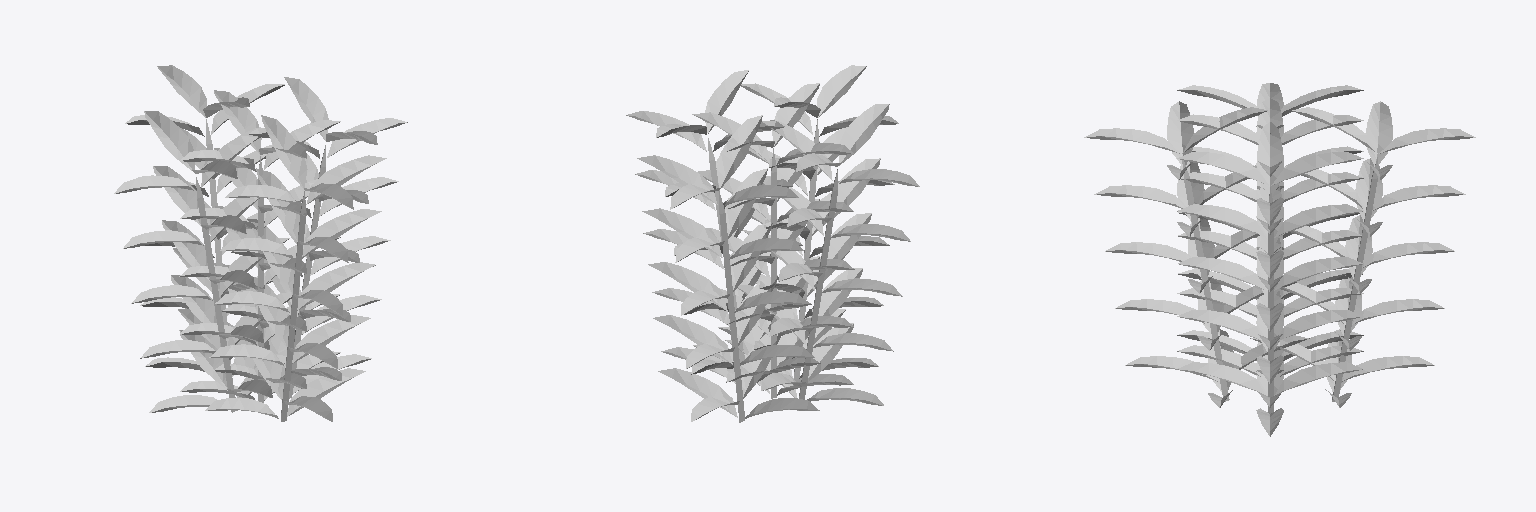
Rendered from obj_sage.obj.
3 views of the same model, side by side, from view 1: azimuth 30°, elevation 25°; view 2: azimuth 150°, elevation 25°; view 3: azimuth 270°, elevation 25° (orthographic).
Parts seen in each view (by area): view 1: Sage4_Cylinder.016, Sage3_Cylinder.015, Sage2_Cylinder.014, Sage1_Cylinder.013, Sage5_Cylinder.017; view 2: Sage5_Cylinder.017, Sage3_Cylinder.015, Sage1_Cylinder.013, Sage2_Cylinder.014, Sage4_Cylinder.016; view 3: Sage2_Cylinder.014, Sage5_Cylinder.017, Sage4_Cylinder.016, Sage1_Cylinder.013, Sage3_Cylinder.015.
Boxes of the visible parts, <box> form: Sage4_Cylinder.016: <box>205,115,386,421</box>; Sage3_Cylinder.015: <box>114,111,299,412</box>; Sage2_Cylinder.014: <box>213,77,407,398</box>; Sage1_Cylinder.013: <box>179,90,340,402</box>; Sage5_Cylinder.017: <box>125,65,295,376</box>; Sage5_Cylinder.017: <box>637,115,819,422</box>; Sage3_Cylinder.015: <box>725,104,919,405</box>; Sage1_Cylinder.013: <box>692,83,854,398</box>; Sage2_Cylinder.014: <box>626,70,820,383</box>; Sage4_Cylinder.016: <box>718,65,898,379</box>; Sage2_Cylinder.014: <box>1177,122,1363,436</box>; Sage5_Cylinder.017: <box>1250,101,1475,407</box>; Sage4_Cylinder.016: <box>1084,101,1309,407</box>; Sage1_Cylinder.013: <box>1177,98,1363,407</box>; Sage3_Cylinder.015: <box>1177,83,1363,373</box>.
Size of the model in its own units: 0.3379 by 0.3183 by 0.3892.